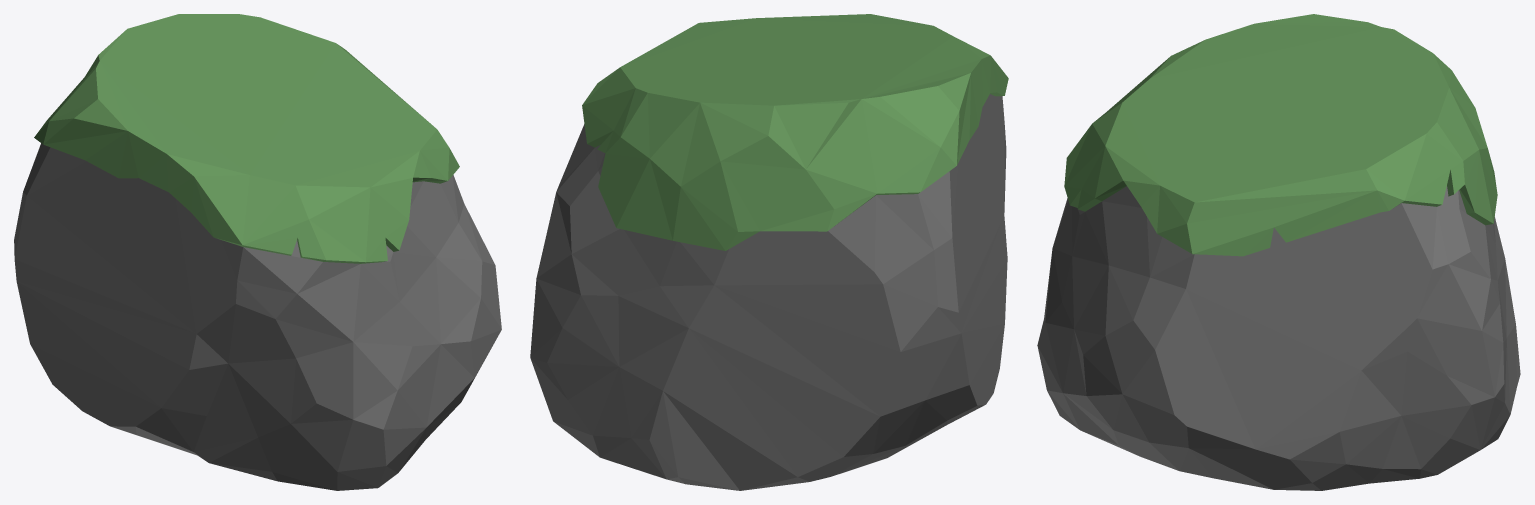
The model's file is Mossy stone 1.fbx.
The picture shows the model from 3 angles, left to right: view 1: azimuth 30°, elevation 25°; view 2: azimuth 150°, elevation 25°; view 3: azimuth 270°, elevation 25°; orthographic projection. The views are drawn at different scales.
Parts seen in each view (by area): view 1: Mossy stone 1; view 2: Mossy stone 1; view 3: Mossy stone 1.
Boxes of the visible parts, box(x1,y1,x2,y2) form: Mossy stone 1: box(14, 14, 501, 490); Mossy stone 1: box(530, 14, 1008, 490); Mossy stone 1: box(1037, 14, 1520, 490).
Bounding box in the file's own units: 1.71 × 1.44 × 1.89.
